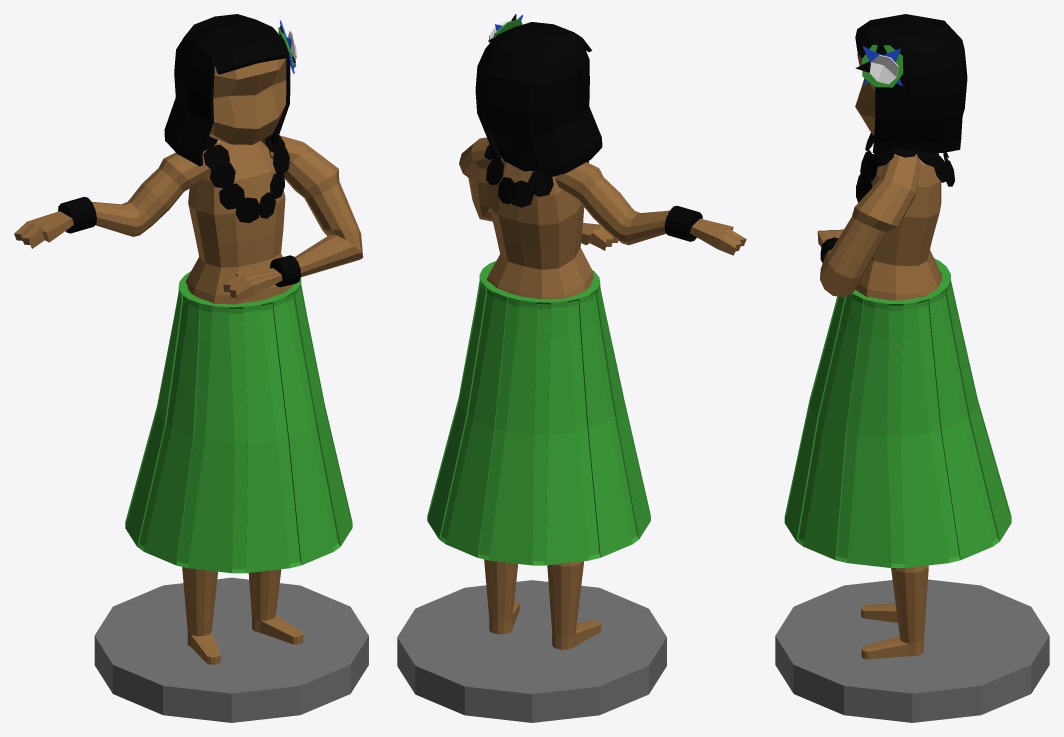
The model's file is Collectible_Hula_Final.fbx.
3 views of the same model, side by side, from view 1: azimuth 30°, elevation 25°; view 2: azimuth 150°, elevation 25°; view 3: azimuth 270°, elevation 25° (orthographic).
Parts seen in each view (by area): view 1: Cylinder.017; view 2: Cylinder.017; view 3: Cylinder.017.
Part boxes in pixels (x1,y1,x2,y2): Cylinder.017: (14, 14, 368, 722); Cylinder.017: (397, 14, 746, 722); Cylinder.017: (775, 14, 1049, 722).
Bounding box in the file's own units: 15.37 × 28.48 × 11.01.
